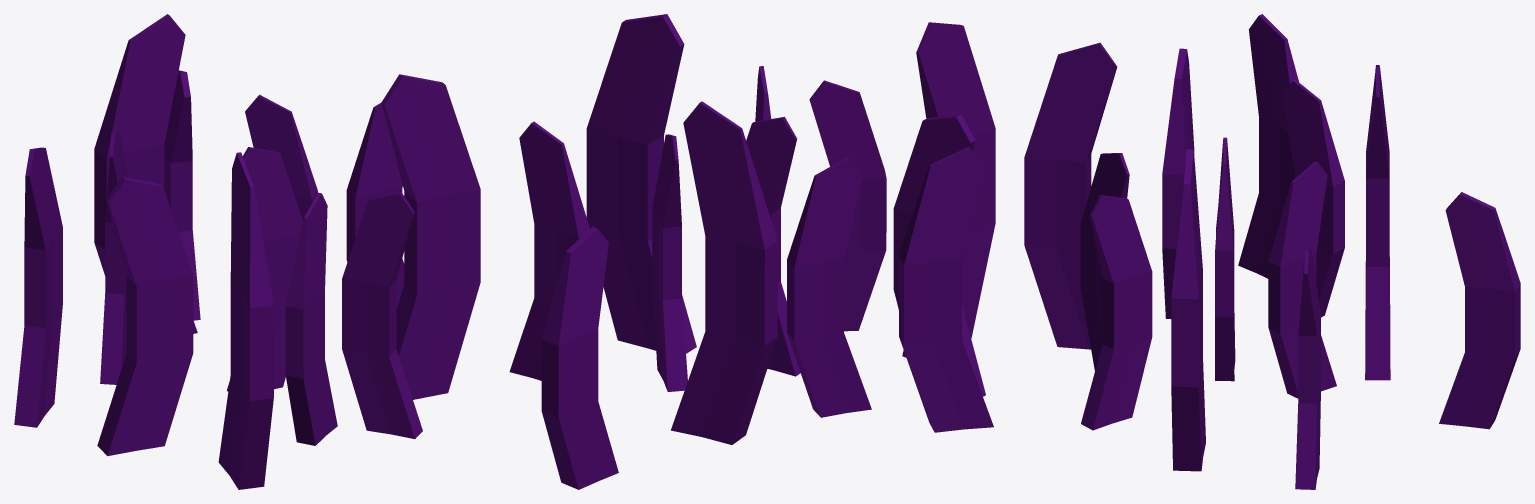
Rendered from BlackGrass2.fbx.
3 renders of one model, left to right at view 1: azimuth 30°, elevation 25°; view 2: azimuth 150°, elevation 25°; view 3: azimuth 270°, elevation 25°, orthographic. The views are drawn at different scales.
Visible parts, largest first — view 1: Cube.020; view 2: Cube.020; view 3: Cube.020.
Boxes of the visible parts, left/top/right/bottom form: Cube.020: left=14, top=14, right=480, bottom=489; Cube.020: left=509, top=14, right=995, bottom=489; Cube.020: left=1024, top=14, right=1520, bottom=489.
Size of the model in its own units: 51.48 by 38.71 by 53.3.
